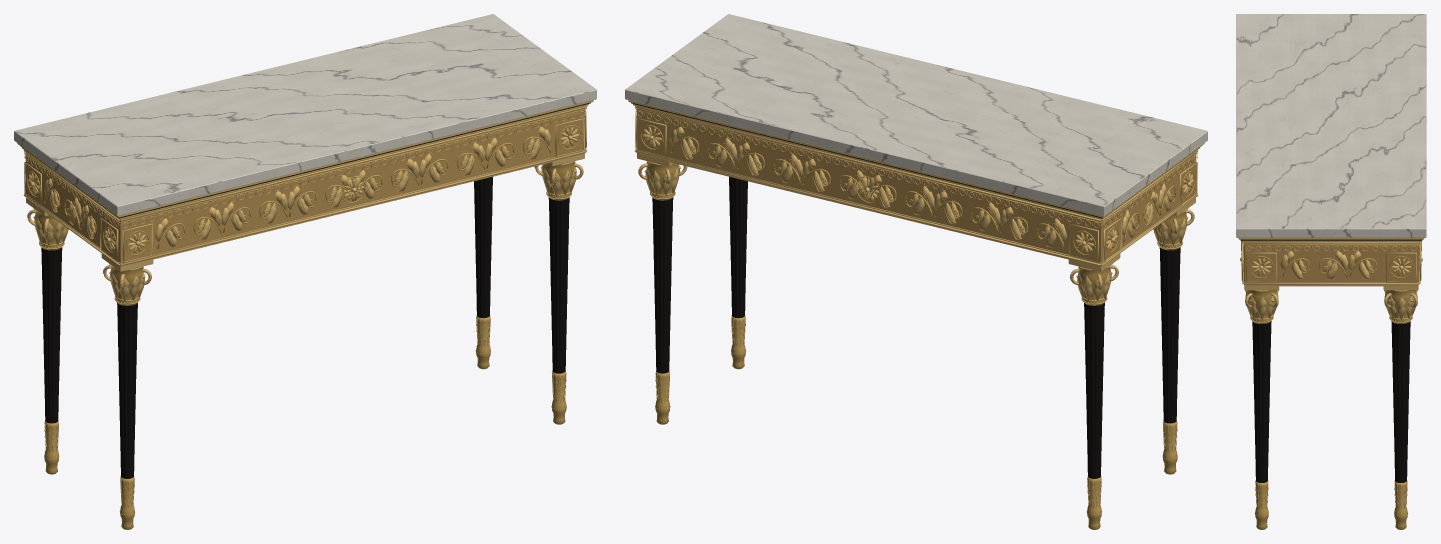
3 views of the same model, side by side, from view 1: azimuth 30°, elevation 25°; view 2: azimuth 150°, elevation 25°; view 3: azimuth 270°, elevation 25° (orthographic). The views are drawn at different scales.
Visible parts, largest first — view 1: Trianon Calacatta console | console-10 web batch; view 2: Trianon Calacatta console | console-10 web batch; view 3: Trianon Calacatta console | console-10 web batch.
Boxes of the visible parts, x1,y1,x2,y2 form: Trianon Calacatta console | console-10 web batch: (14,14,596,529); Trianon Calacatta console | console-10 web batch: (625,14,1207,529); Trianon Calacatta console | console-10 web batch: (1236,14,1426,529).
Bounding box in the file's own units: 1.31 × 0.88 × 0.49.
Materials: 6 (1 with a texture image).
